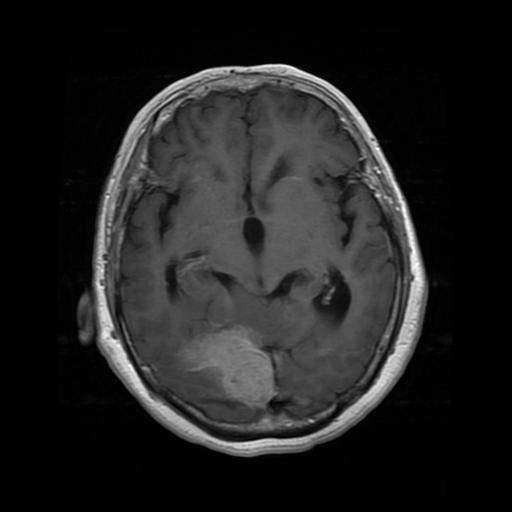Tumour-Meningioma: (171, 309, 300, 419)
